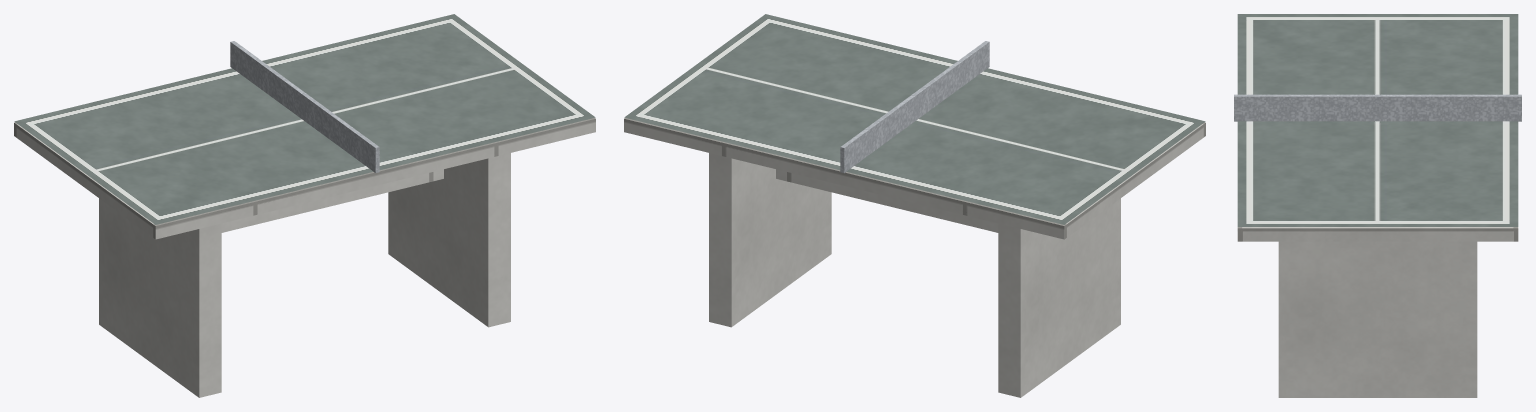
Rendered from tischtennisplatte.glb.
3 views of the same model, side by side, from view 1: azimuth 30°, elevation 25°; view 2: azimuth 150°, elevation 25°; view 3: azimuth 270°, elevation 25° (orthographic).
Visible parts, largest first — view 1: PingPong_top, PingPong_conc, PingPong_net; view 2: PingPong_top, PingPong_conc, PingPong_net; view 3: PingPong_top, PingPong_conc, PingPong_net.
Boxes of the visible parts, x1,y1,x2,y2 form: PingPong_top: [14, 14, 595, 224]; PingPong_conc: [14, 118, 595, 397]; PingPong_net: [230, 41, 379, 173]; PingPong_top: [624, 14, 1205, 224]; PingPong_conc: [624, 118, 1205, 397]; PingPong_net: [840, 41, 989, 173]; PingPong_top: [1237, 14, 1518, 226]; PingPong_conc: [1237, 227, 1518, 397]; PingPong_net: [1234, 94, 1521, 121].
Size of the model in its own units: 2.74 by 1.36 by 1.57.
3 materials, 3 textured.
